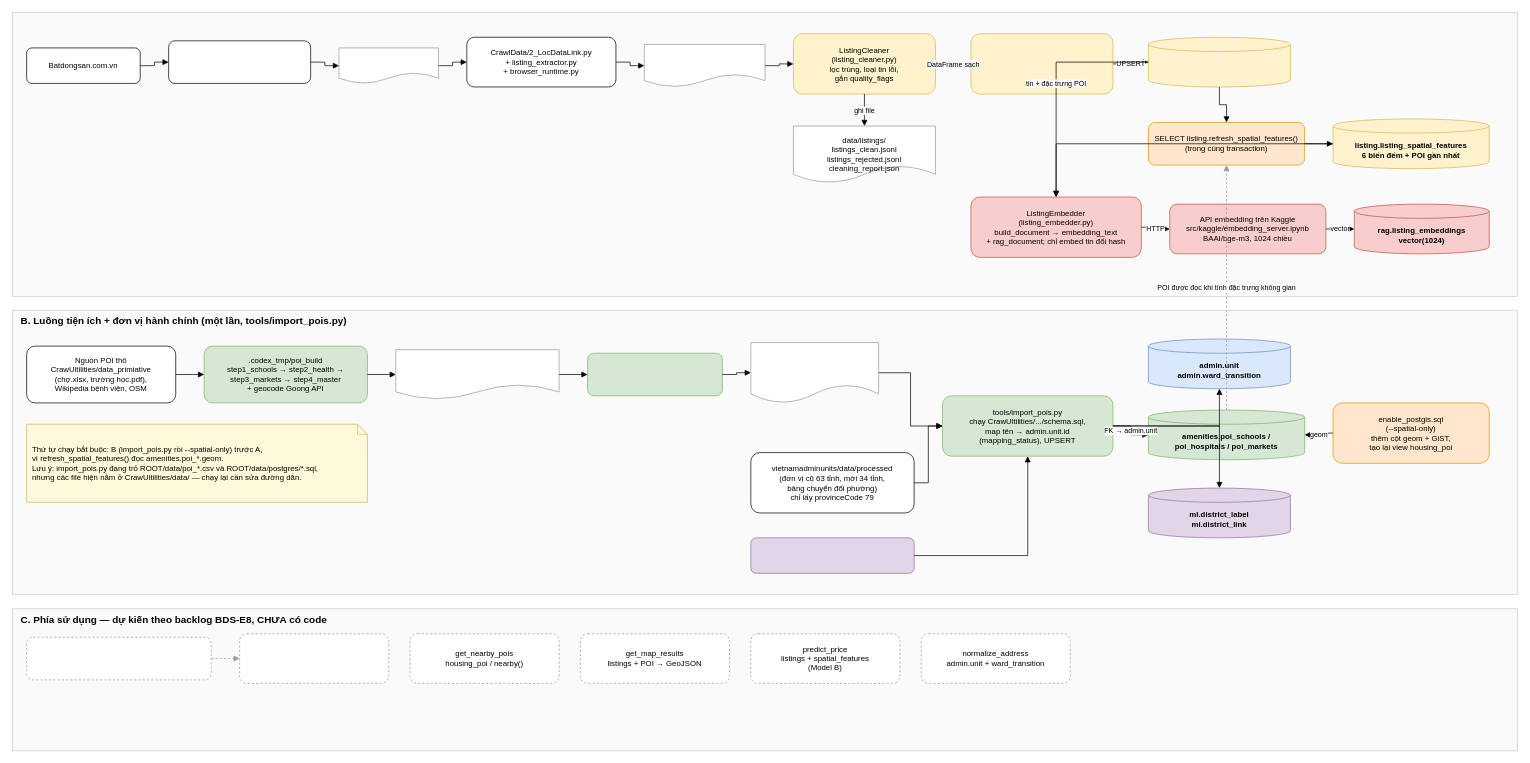
Image size: 1530x763. Some labels were removed from this diagram. The shapes that lost their labels are listed below. From the top down, each one's box as (x1, y1, x2, y2) in pixels, then its label:
(168, 40, 311, 83): CrawlData/1_GetLinkNhaDat.py thu link trang tìm kiếm
(338, 47, 438, 83): linkNhaDat.txt
(644, 44, 765, 87): CrawlData/data.json (JSON Lines, raw)
(970, 33, 1113, 94): ListingLoader (listing_loader.py) chạy schema.sql + UPSERT theo listing_id
(1148, 37, 1290, 87): listing.listings (geom tự sinh từ lat/lon)
(12, 12, 1518, 296): A. Luồng tin đăng bất động sản (python -m src.pipeline)
(395, 349, 559, 399): outputs/poi_master_old_hcm_20260920/ poi_master_old_hcm.csv
(587, 353, 722, 396): step5_split_for_postgres.py
(750, 342, 879, 403): CrawUltilities/data/ poi_schools.csv poi_hospitals.csv poi_markets.csv
(750, 537, 914, 573): LABELS 24 quận hardcode (model hcm_24_user_v1)
(26, 637, 211, 680): FastAPI (BDS-43) — router / service / tool
(239, 633, 389, 683): search_listings listings + embeddings (hybrid search)
